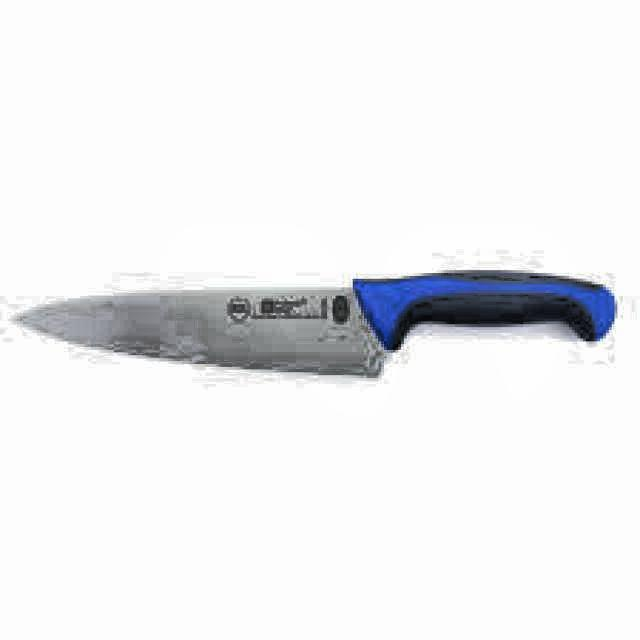knife: (12, 268, 622, 377)
